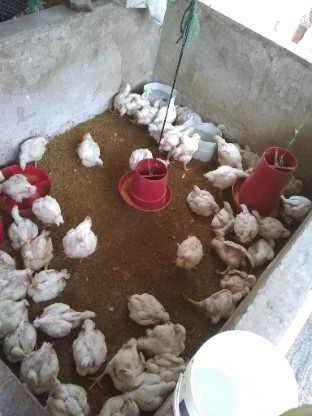Pollos: (182, 284, 244, 325), (35, 302, 97, 337), (71, 319, 108, 377), (136, 315, 191, 354), (21, 342, 61, 394), (100, 342, 142, 388), (46, 373, 90, 416), (210, 227, 249, 270), (166, 230, 204, 273), (18, 231, 57, 272), (64, 215, 98, 262), (4, 201, 38, 248), (127, 284, 170, 321), (2, 322, 39, 363), (29, 267, 72, 301), (134, 377, 176, 410), (250, 206, 290, 238), (0, 263, 34, 300), (172, 134, 205, 172), (29, 193, 65, 227), (184, 182, 220, 216), (75, 131, 104, 173), (15, 133, 46, 172), (143, 349, 186, 377), (205, 165, 255, 188), (159, 126, 197, 155), (211, 133, 241, 166), (124, 141, 153, 175), (277, 191, 311, 220), (1, 173, 35, 201), (99, 392, 138, 415), (0, 299, 28, 331), (102, 80, 134, 107), (249, 234, 276, 263), (221, 268, 261, 287), (235, 201, 255, 237), (212, 201, 235, 232), (160, 95, 182, 125), (120, 90, 142, 115), (146, 117, 171, 139), (138, 98, 159, 122), (0, 244, 17, 271), (240, 146, 263, 165), (288, 173, 304, 194), (181, 109, 203, 124), (217, 120, 228, 135)
